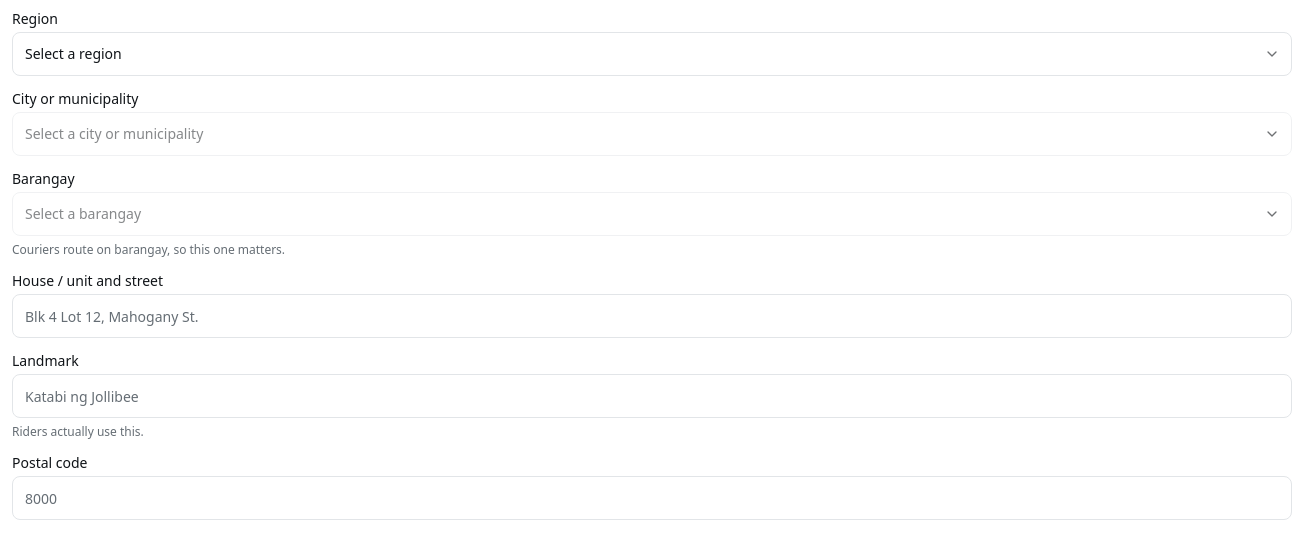
Test: PhAddressPicker › SKIPS the province step for NCR and goes straight to city
Select "National Capital Region (NCR)" in the dropdown labelled "Region" at (652, 54), box [12, 32, 1292, 76]
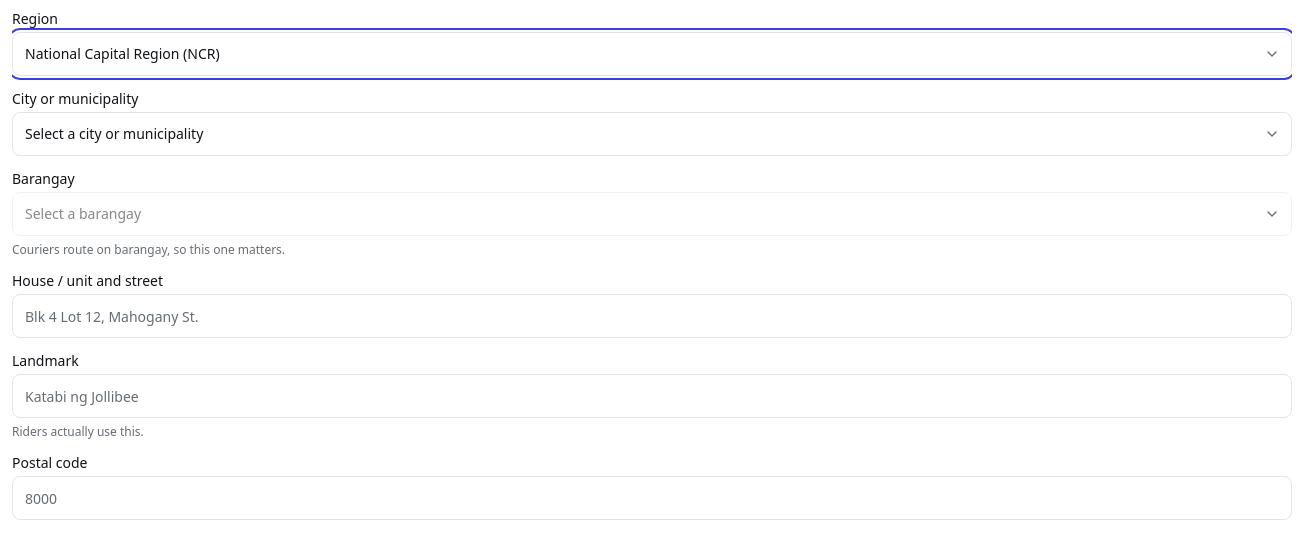
Expected: the dropdown labelled "City or municipality" is enabled, [12, 112, 1292, 156]
